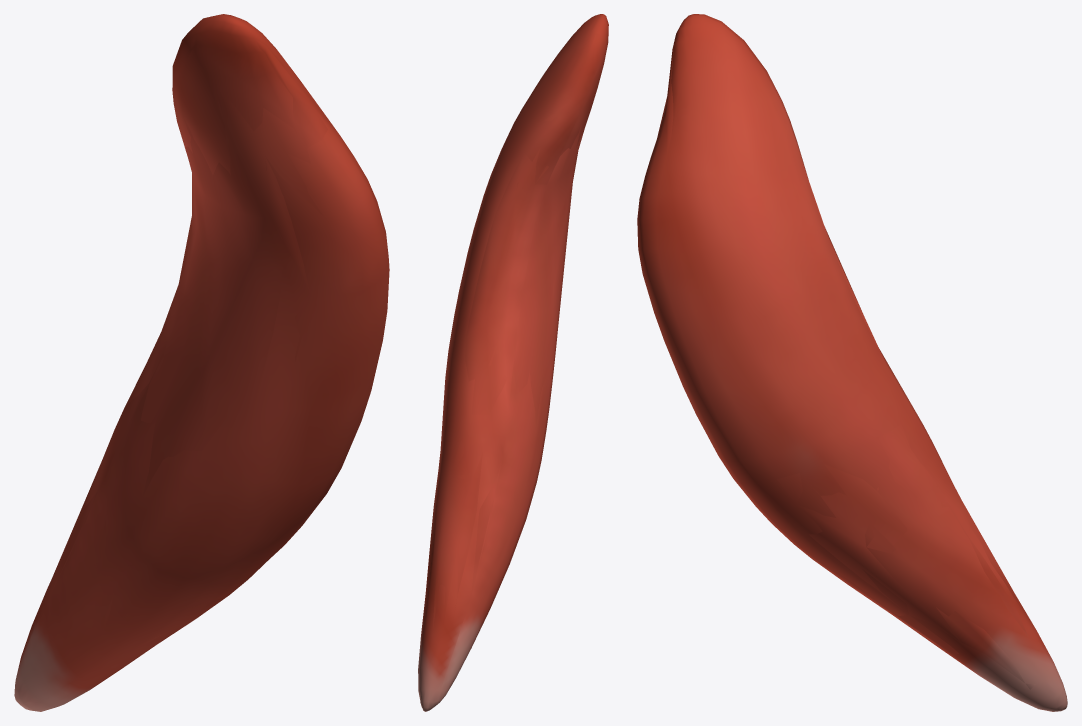
File: L Brachialis.fbx
3 renders of one model, left to right at view 1: azimuth 30°, elevation 25°; view 2: azimuth 150°, elevation 25°; view 3: azimuth 270°, elevation 25°, orthographic. The views are drawn at different scales.
Visible parts, largest first — view 1: L Brachialis, L Brachialis low; view 2: L Brachialis, L Brachialis low; view 3: L Brachialis, L Brachialis low.
Boxes of the visible parts, x1,y1,x2,y2 form: L Brachialis: (14,14,389,711); L Brachialis low: (25,14,340,703); L Brachialis: (418,14,608,711); L Brachialis low: (424,14,602,631); L Brachialis: (637,14,1067,711); L Brachialis low: (657,15,1035,707).
Size of the model in its own units: 2.61 by 12.22 by 6.95.
